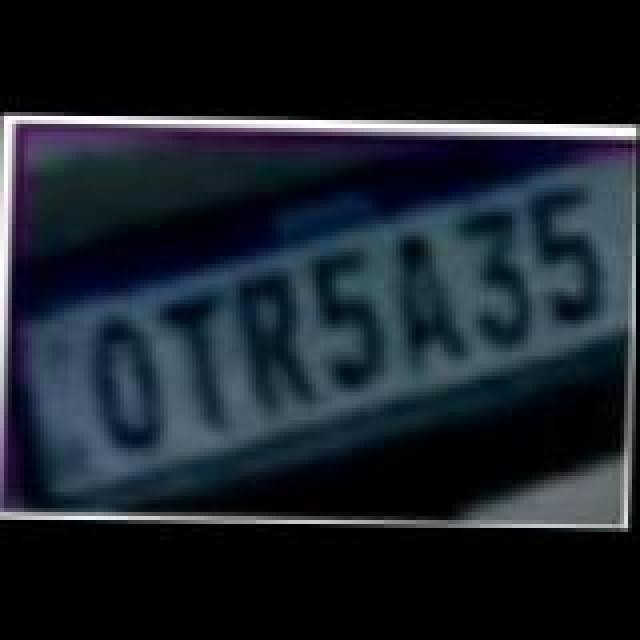3: (456, 206, 544, 346)
5: (308, 244, 396, 388), (530, 182, 614, 322)
A: (386, 228, 470, 368)
O: (86, 314, 174, 454)
R: (234, 268, 326, 412)
T: (160, 292, 248, 432)
